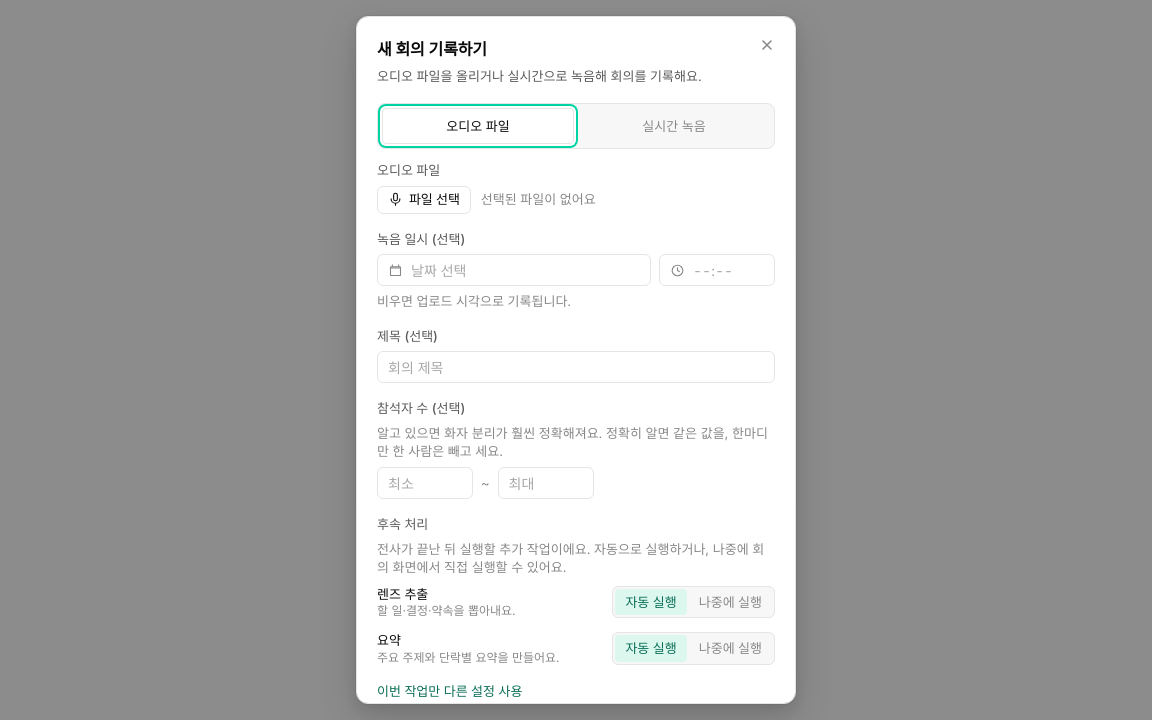
Test: 마이크 권한이 거부됐으면 녹음을 막는다
Press the mouse on the tab "실시간 녹음" at x=674, y=126, box 578,108 -> 770,144
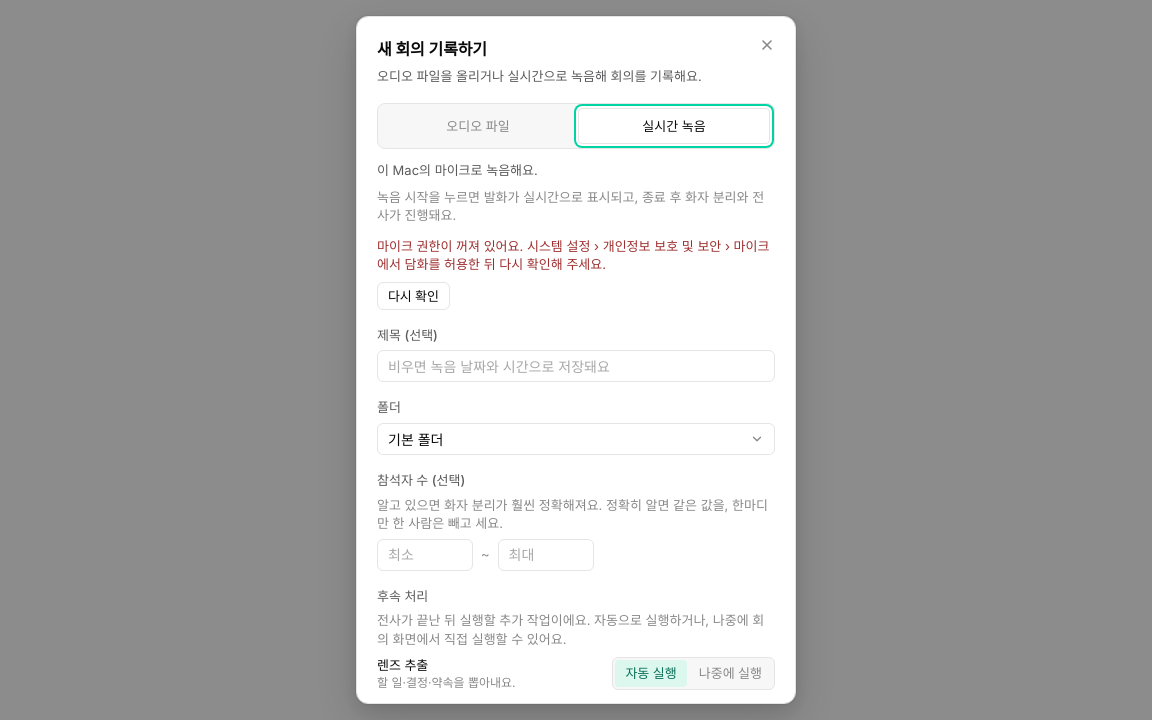
Result: the text "마이크 권한이 꺼져 있어요. 시스템 설정 › 개인정보 보호 및 보안 › 마이크에서 담화를 허용한 뒤 다시 확인해 주세요." is shown at 377,237 -> 775,274
